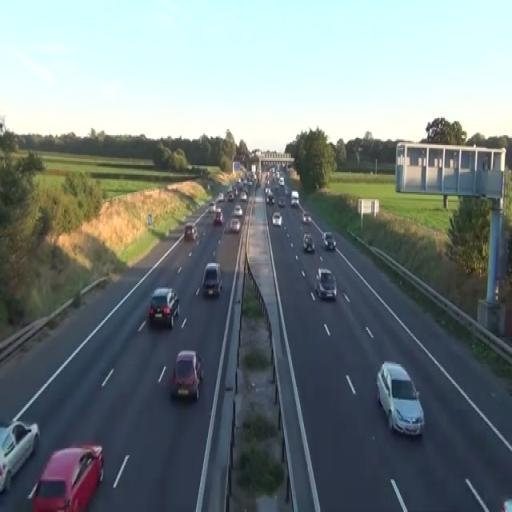Car: (30, 442, 104, 511), (376, 361, 425, 438), (0, 420, 40, 494), (170, 350, 204, 401), (148, 287, 180, 329), (314, 268, 337, 301), (202, 262, 223, 298), (322, 231, 336, 251), (302, 232, 316, 252), (225, 218, 241, 234), (272, 212, 282, 226)
